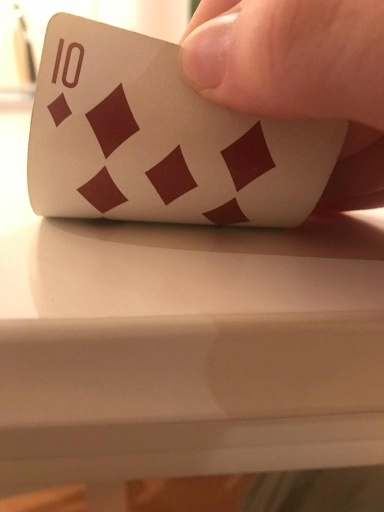D10: (41, 33, 83, 126)
